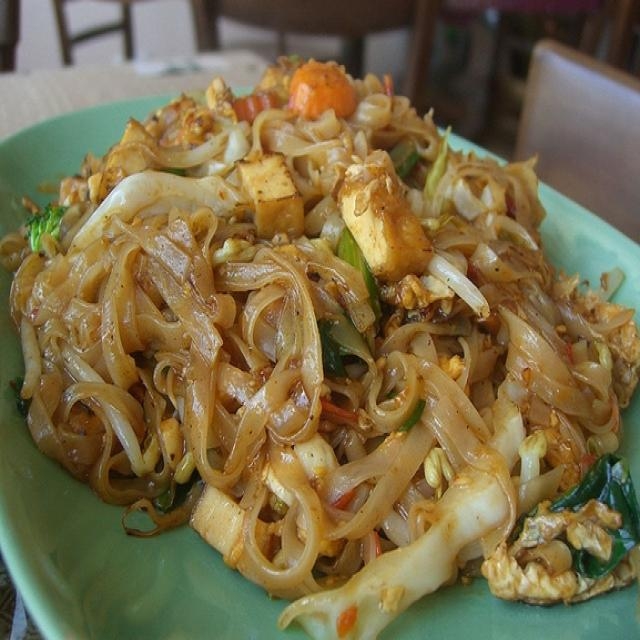面条主食: (13, 58, 626, 604)
